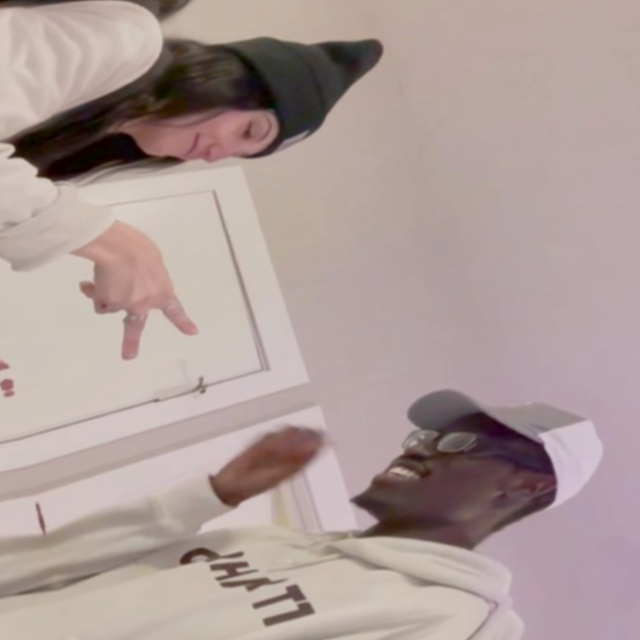Rock: (207, 415, 340, 502)
Scissors: (69, 222, 204, 370)
